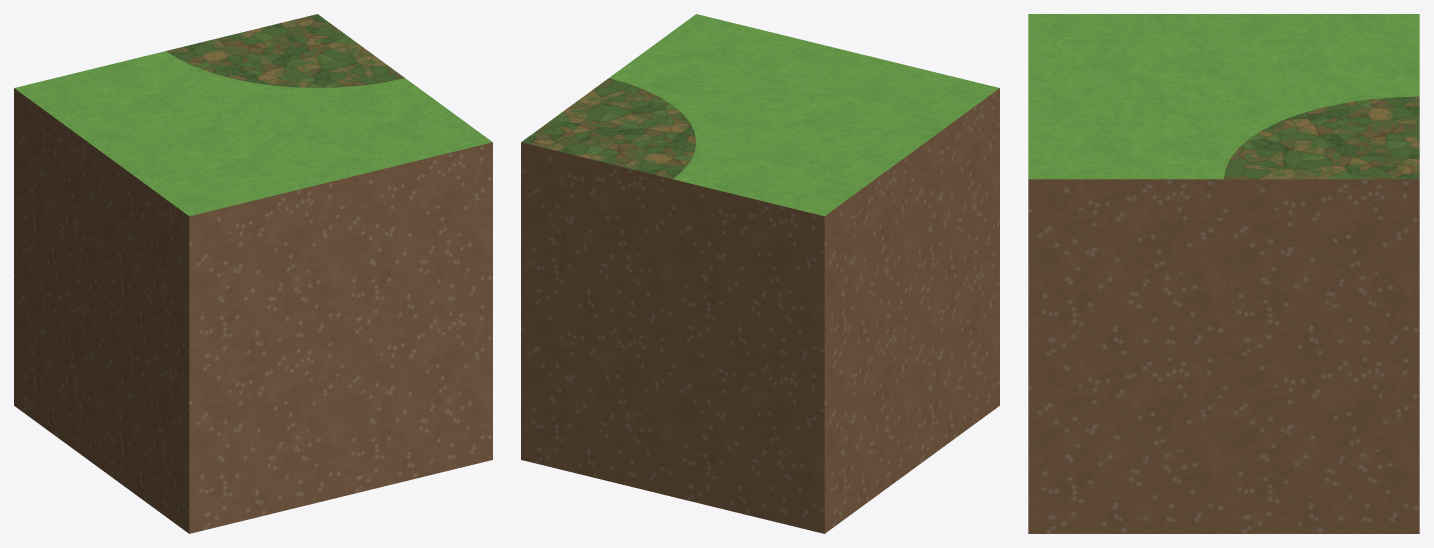
Rendered from Forest_OuterCorner_F.fbx.
3 views of the same model, side by side, from view 1: azimuth 30°, elevation 25°; view 2: azimuth 150°, elevation 25°; view 3: azimuth 270°, elevation 25° (orthographic). The views are drawn at different scales.
Visible parts, largest first — view 1: Forest_OuterCorner_F; view 2: Forest_OuterCorner_F; view 3: Forest_OuterCorner_F.
Part boxes in pixels (<box>): Forest_OuterCorner_F: <box>14,14,492,533</box>; Forest_OuterCorner_F: <box>521,14,999,533</box>; Forest_OuterCorner_F: <box>1028,14,1419,533</box>.
Bounding box in the file's own units: 3 × 3 × 3.
Materials: 3 (3 with a texture image).
